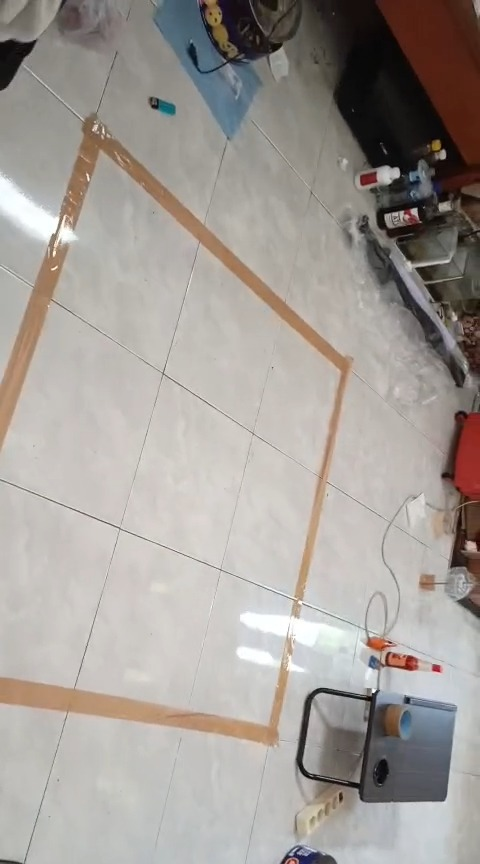floor marking: (0, 115, 350, 467)
